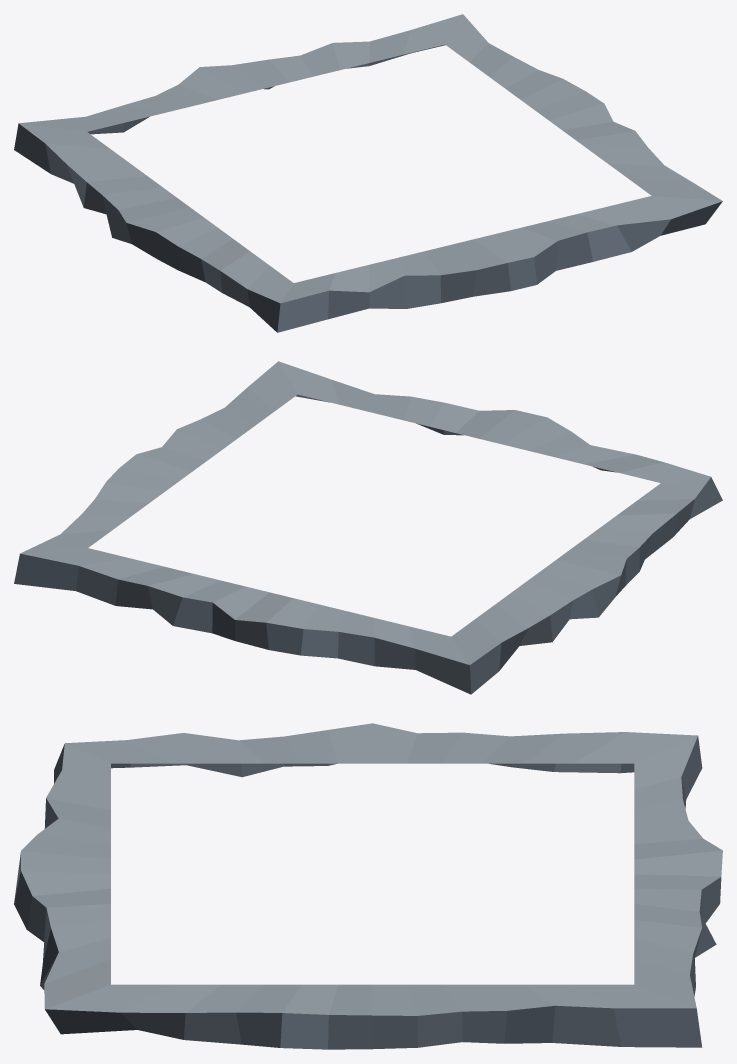
Rendered from entorno.glb.
The picture shows the model from 3 angles, top to bottom: view 1: azimuth 30°, elevation 25°; view 2: azimuth 150°, elevation 25°; view 3: azimuth 270°, elevation 25°; orthographic projection. The views are drawn at different scales.
Visible parts, largest first — view 1: pedreira_entorno; view 2: pedreira_entorno; view 3: pedreira_entorno.
Boxes of the visible parts, bbox=[...] form: pedreira_entorno: bbox=[14, 14, 722, 332]; pedreira_entorno: bbox=[14, 361, 722, 694]; pedreira_entorno: bbox=[14, 723, 722, 1049].
Bounding box in the file's own units: 16.31 × 1.06 × 16.52.
